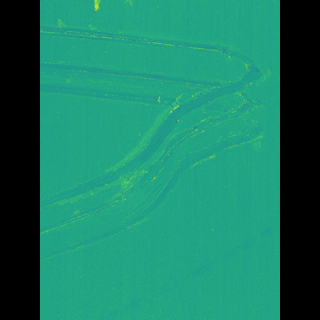Loch: (68, 20, 242, 262), (107, 217, 250, 320)
